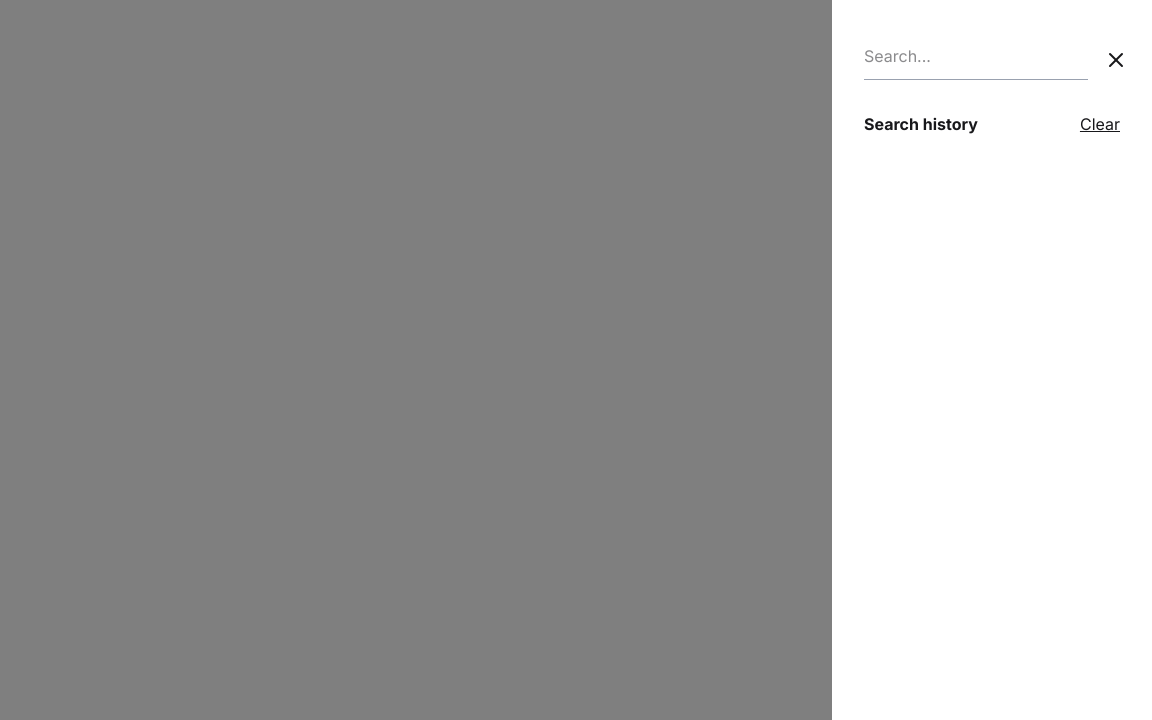
Test: Search Drawer › should navigate to search page, close search drawer when submit success
Type "shirt" into the field with placeholder "Search..." at point(976, 56), box x1=864 y1=32 x2=1088 y2=80
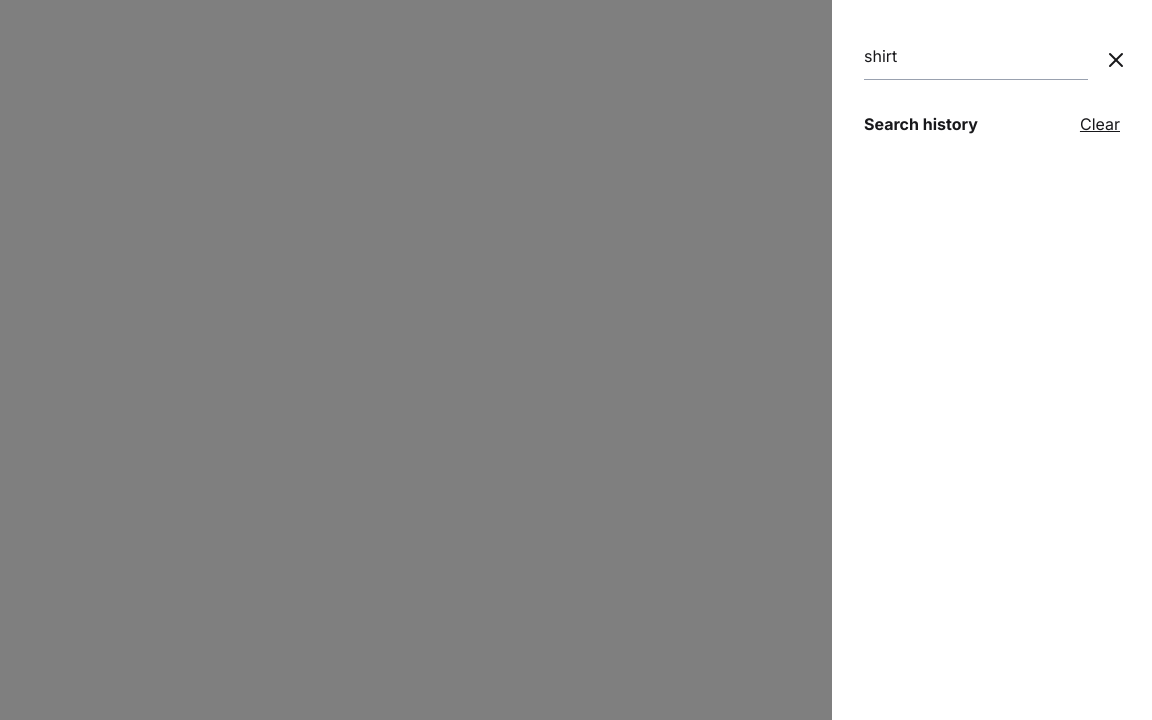
Submit the form with test id "search-form", box x1=864 y1=32 x2=1120 y2=80
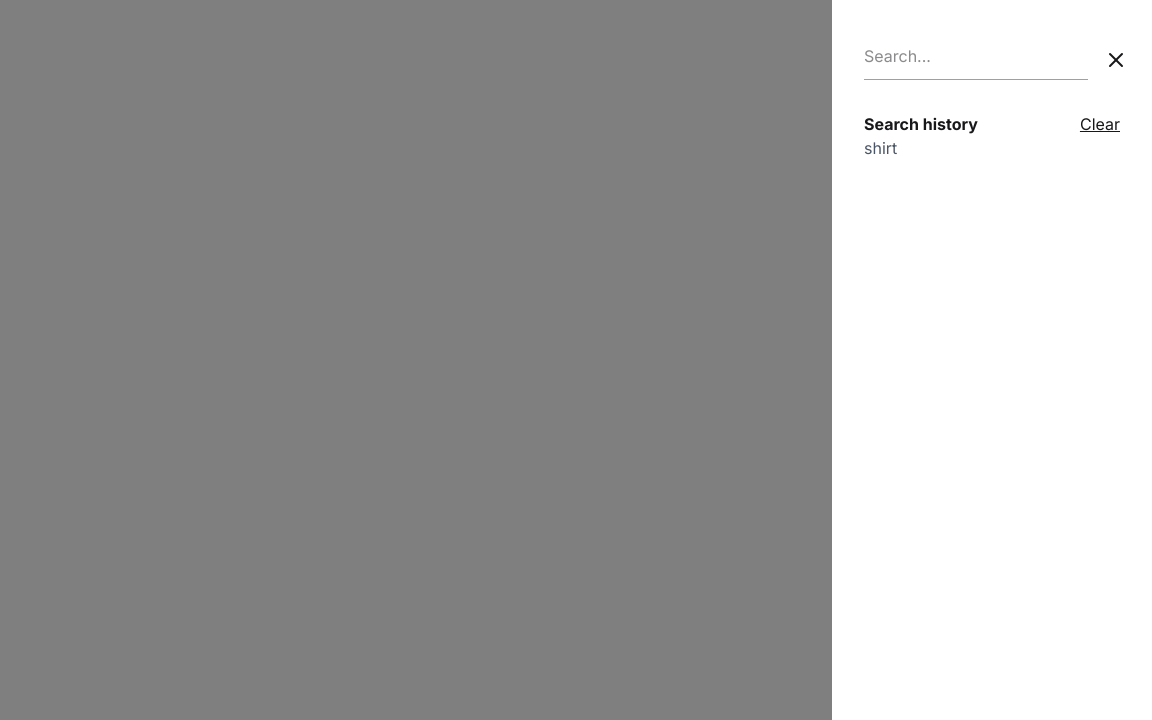
Expected: the button "shirt" is shown, x1=864 y1=136 x2=897 y2=160
